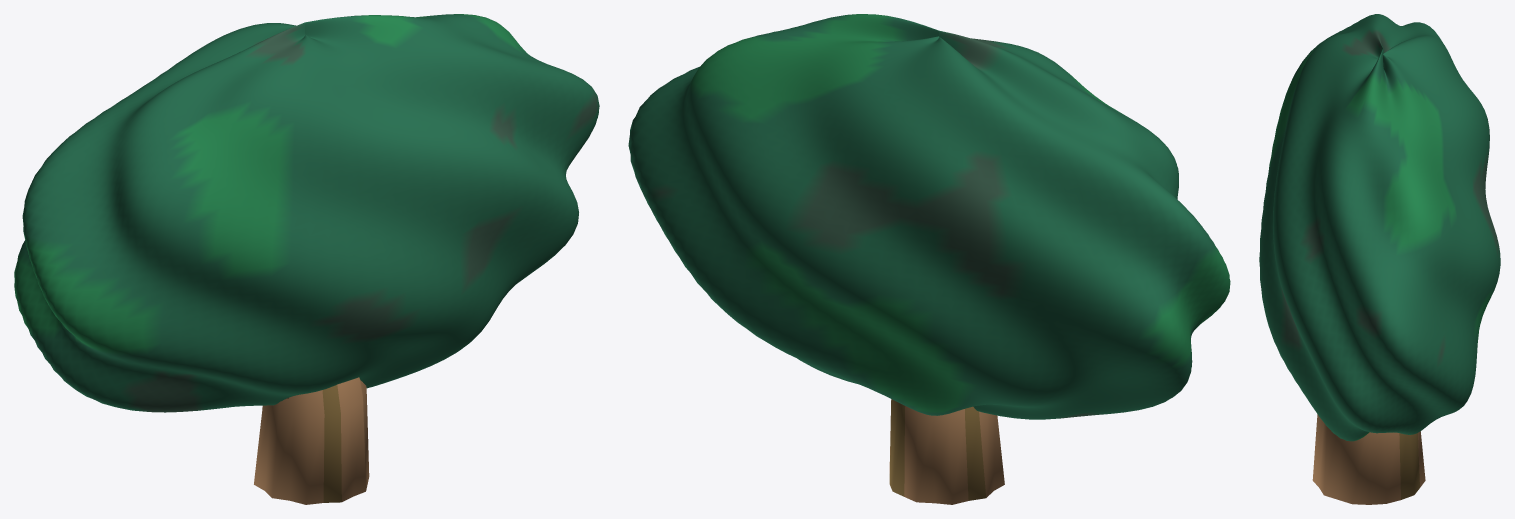
File: tree04.glb
3 renders of one model, left to right at view 1: azimuth 30°, elevation 25°; view 2: azimuth 150°, elevation 25°; view 3: azimuth 270°, elevation 25°, orthographic. The views are drawn at different scales.
Parts seen in each view (by area): view 1: Wide flattened organic crown, Short stout broad tree trunk; view 2: Wide flattened organic crown, Short stout broad tree trunk; view 3: Wide flattened organic crown, Short stout broad tree trunk.
Boxes of the visible parts, x1,y1,x2,y2 form: Wide flattened organic crown: (14, 14, 599, 412); Short stout broad tree trunk: (254, 377, 369, 504); Wide flattened organic crown: (628, 14, 1230, 419); Short stout broad tree trunk: (889, 399, 1004, 504); Wide flattened organic crown: (1259, 14, 1500, 441); Short stout broad tree trunk: (1312, 414, 1425, 504).
Bounding box in the file's own units: 1 × 0.7545 × 0.3808.
